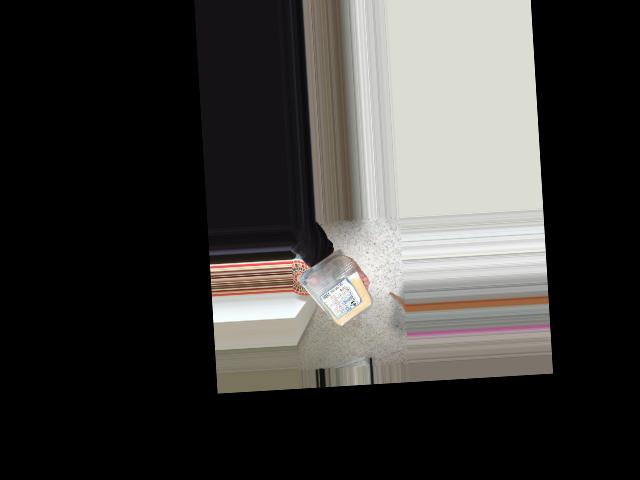cheese: (302, 258, 364, 331)
